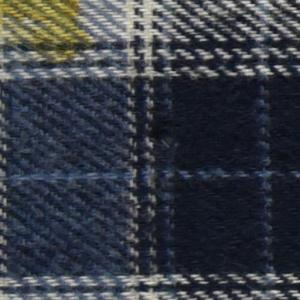Damage: (140, 116, 184, 158)
Stain: (1, 1, 103, 73)
